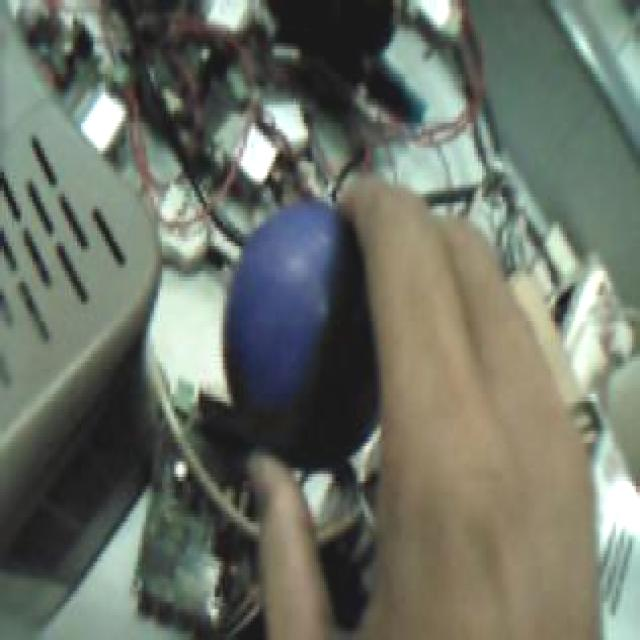BallPurple: (223, 202, 385, 466)
